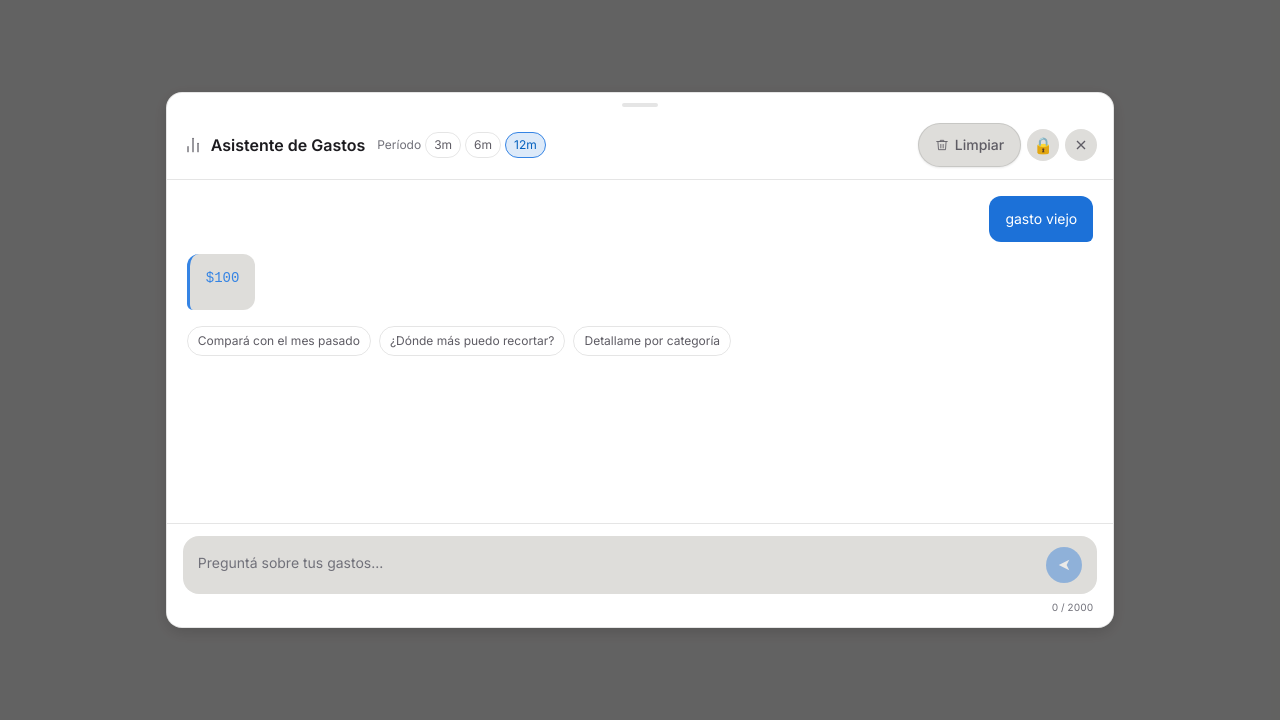
it: AssistantShell › Limpiar asks once with the agreed copy and only clears on confirm
The image size is (1280, 720).
Click the button "Limpiar": coordinates (970, 145) [918,123,1021,167]
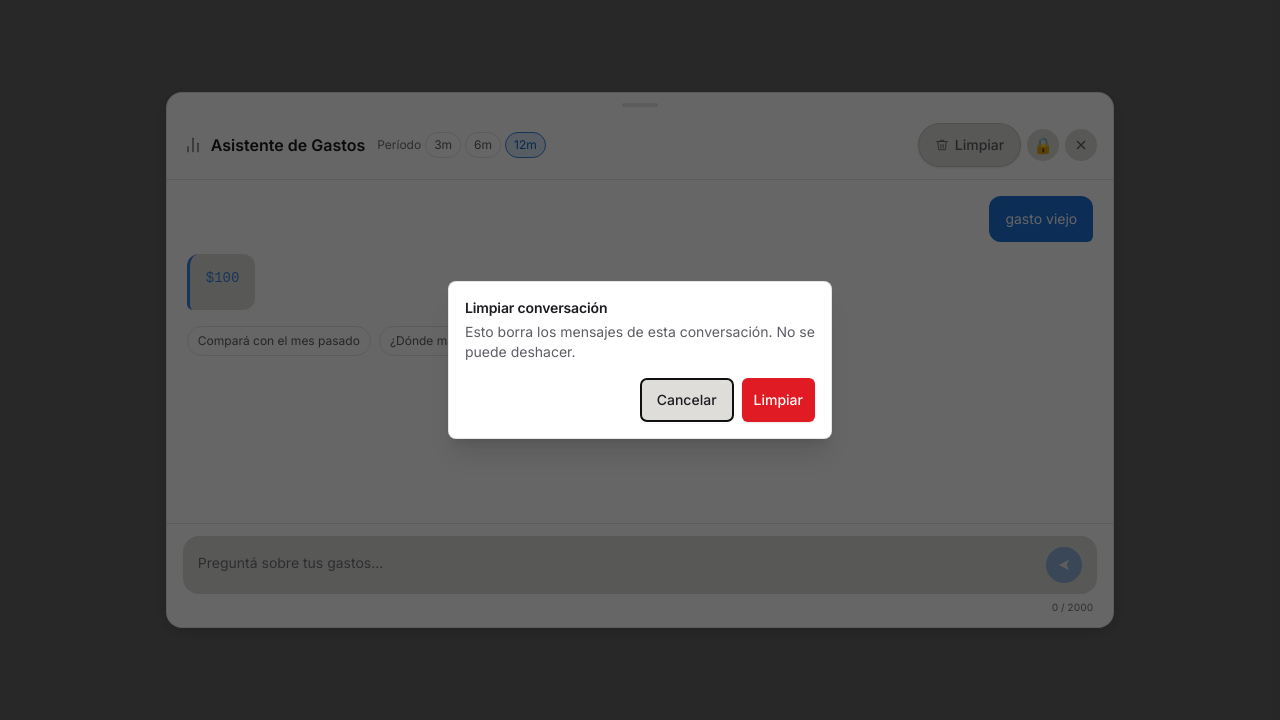
Now the text "Esto borra los mensajes de esta conversación. No se puede deshacer." is shown, box [465,322,815,362]
Now the number of buttons "Limpiar" is 1, box [742,378,815,422]
Note: Cancelling keeps the thread.
Click the button "Cancelar": coordinates (687, 400) [640,378,734,422]
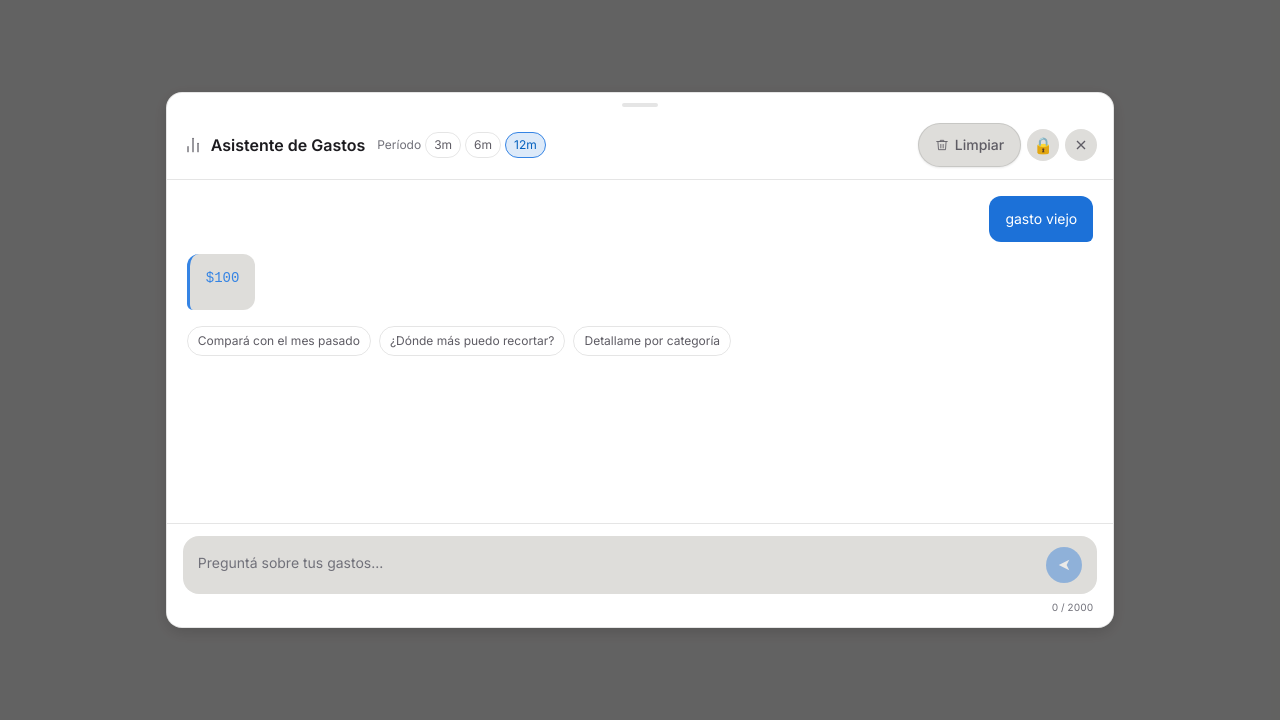
Expected: the text "gasto viejo" is shown, [989,196,1093,242]
Click the button "Limpiar": coordinates (970, 145) [918,123,1021,167]
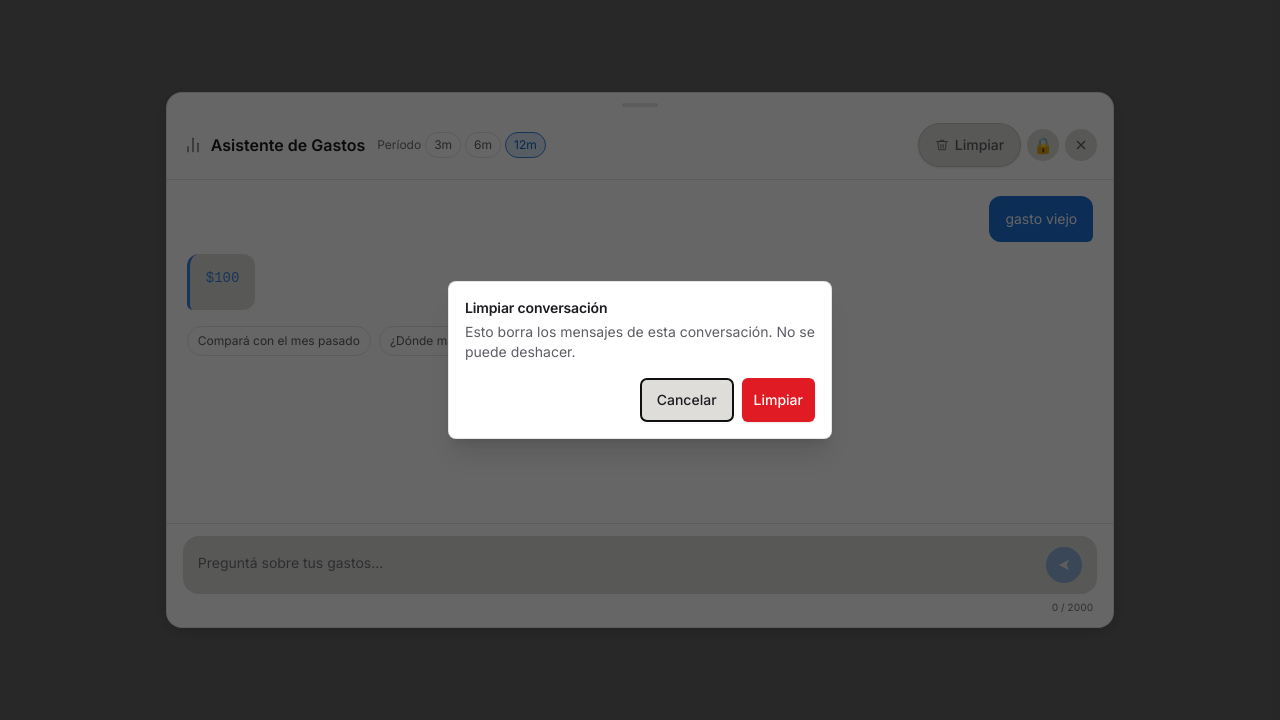
Click the button "Limpiar": coordinates (778, 400) [742,378,815,422]
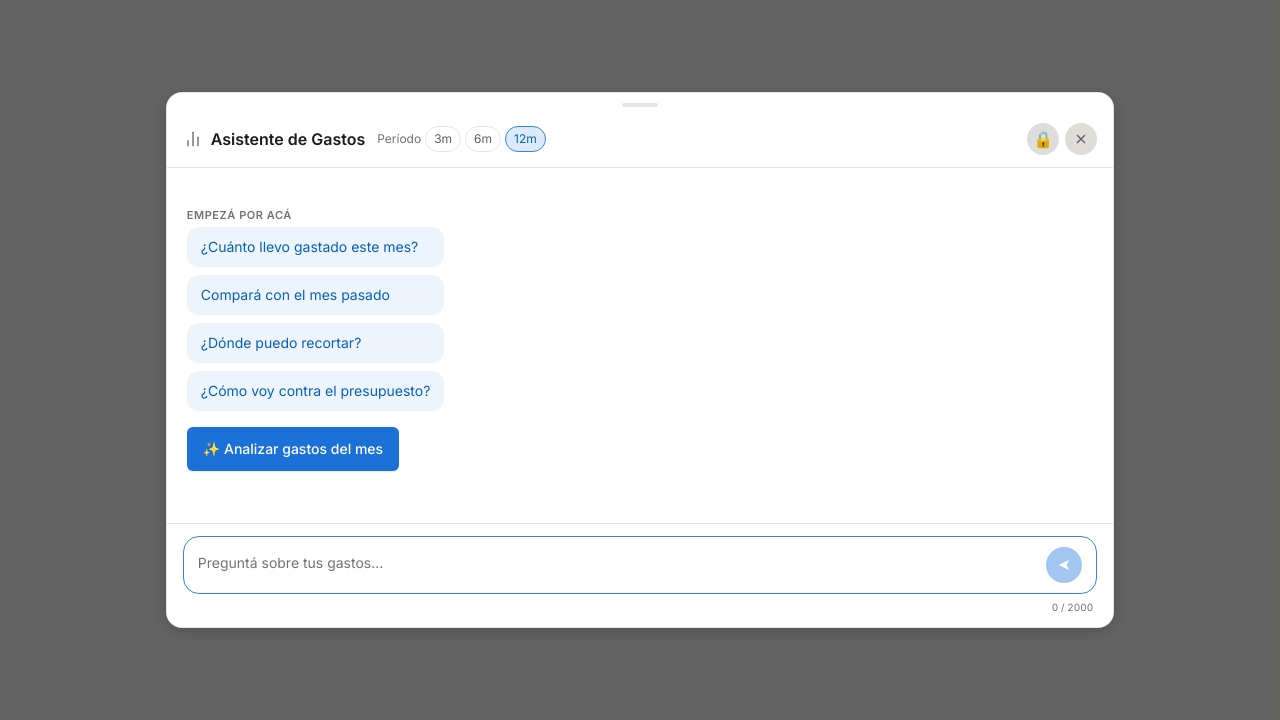
Now the text "gasto viejo" is gone
